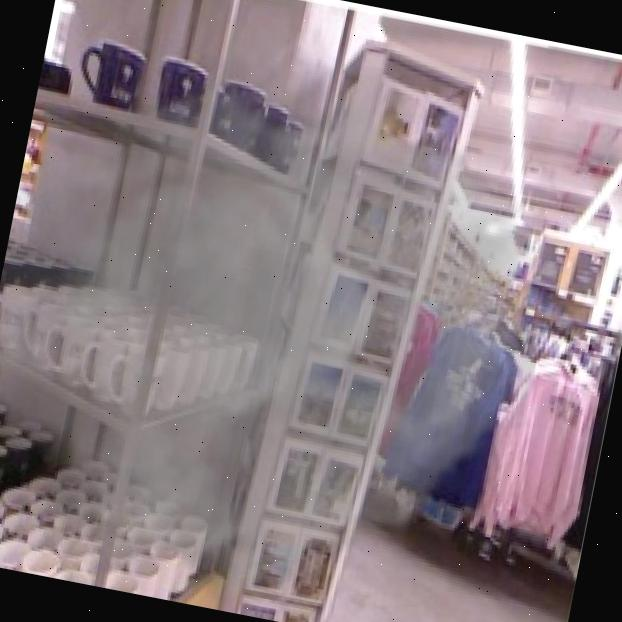smoke: (0, 4, 585, 622)
